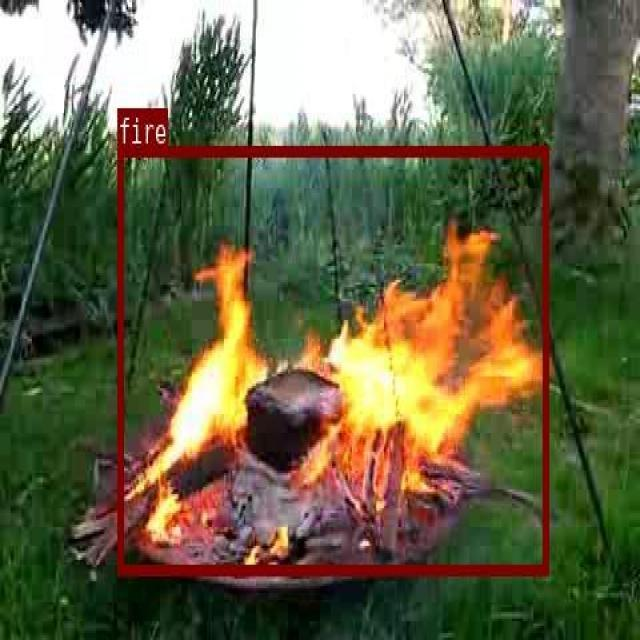fire: (116, 144, 548, 573)
